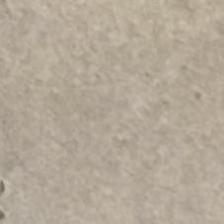Non_Crack: (36, 35, 190, 191)
